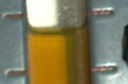border: (89, 64, 119, 74), (87, 8, 116, 17), (5, 68, 30, 78), (1, 11, 27, 20)
liquidlevel: (26, 22, 89, 40)
